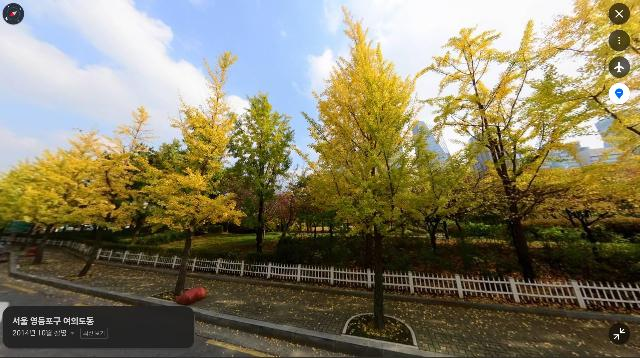ginkgo: (406, 19, 640, 282), (296, 6, 452, 330), (127, 50, 248, 299), (37, 105, 164, 278), (0, 125, 110, 265)
